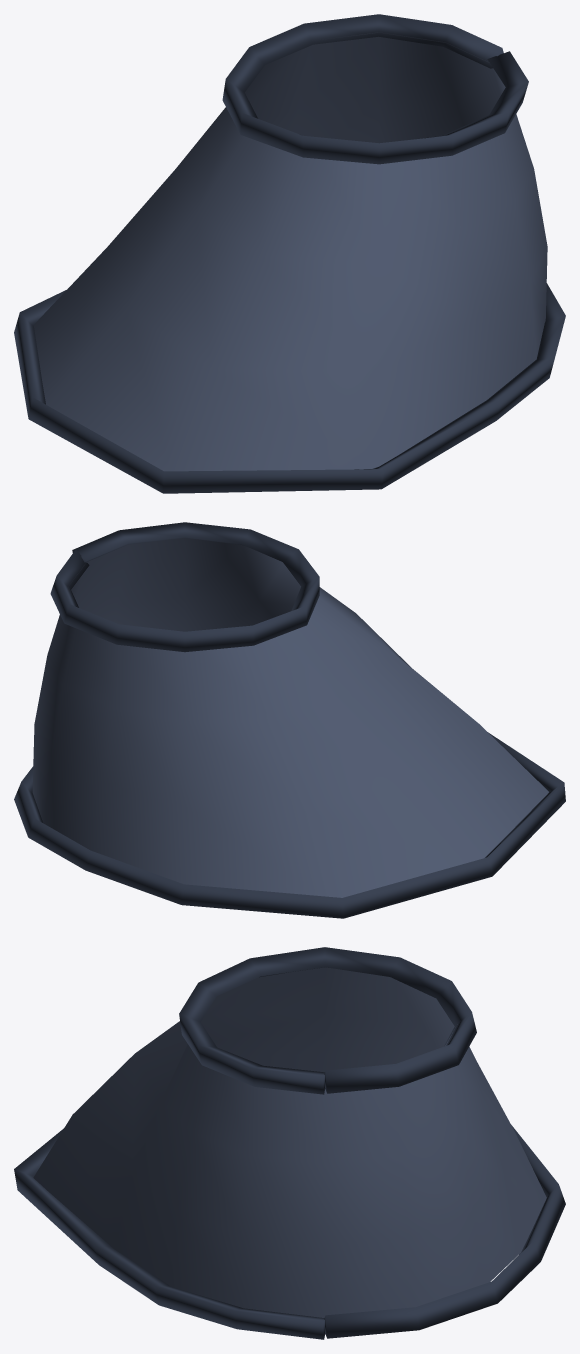
The model's file is lead_armor_pauldron.R.glb.
3 renders of one model, top to bottom at view 1: azimuth 30°, elevation 25°; view 2: azimuth 150°, elevation 25°; view 3: azimuth 270°, elevation 25°, orthographic. The views are drawn at different scales.
Visible parts, largest first — view 1: lead_armor_pauldron.R; view 2: lead_armor_pauldron.R; view 3: lead_armor_pauldron.R.
Part boxes in pixels (box(x1,y1,x2,y2)): lead_armor_pauldron.R: box(14, 14, 565, 493); lead_armor_pauldron.R: box(14, 522, 565, 918); lead_armor_pauldron.R: box(14, 947, 565, 1339).
Size of the model in its own units: 0.342 by 0.1646 by 0.3253.
